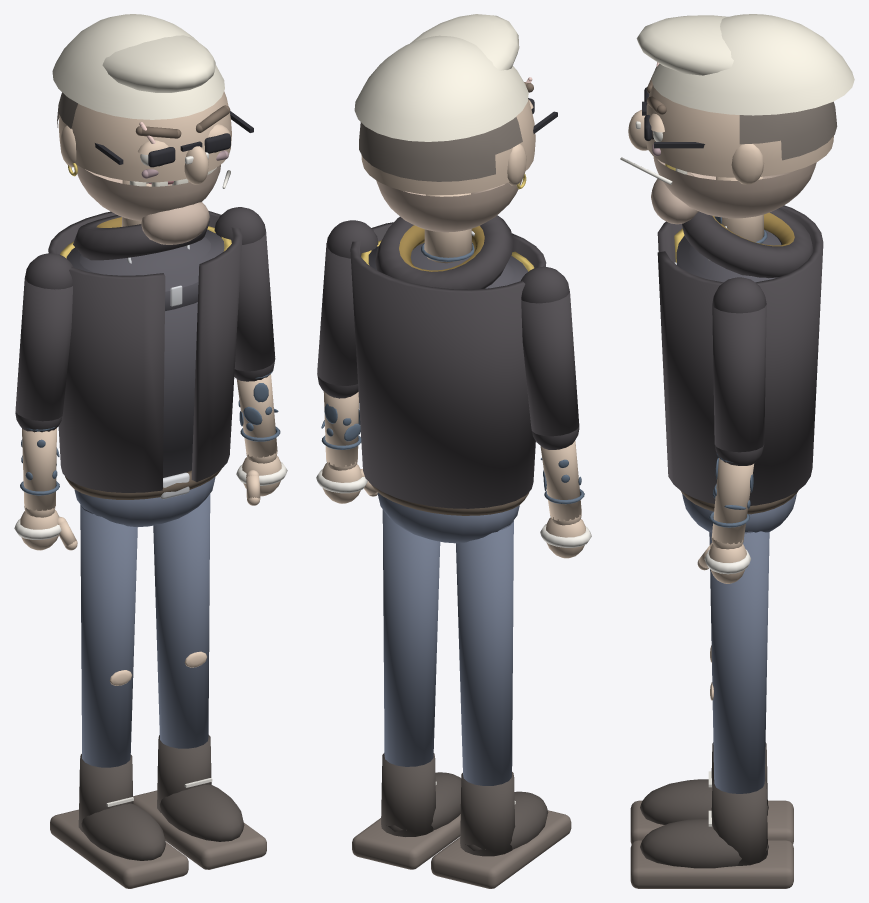
Rendered from pac.glb.
The picture shows the model from 3 angles, left to right: view 1: azimuth 30°, elevation 25°; view 2: azimuth 150°, elevation 25°; view 3: azimuth 270°, elevation 25°; orthographic projection. The views are drawn at different scales.
Visible parts, largest first — view 1: pac.leatherB, pac.jawU, pac.body, pac.legL, pac.legR, pac.footL, pac.footR, pac.leatherL, pac.leatherR, pac.jawL, pac.armL, pac.armR (+3 smaller); view 2: pac.leatherB, pac.jawU, pac.legL, pac.legR, pac.footL, pac.leatherL, pac.body, pac.footR, pac.leatherR, pac.jawL, pac.armL, pac.armR (+2 smaller); view 3: pac.leatherB, pac.jawU, pac.legR, pac.footR, pac.leatherR, pac.jawL, pac.body, pac.footL, pac.armR, pac.handR, pac.shades.
Part boxes in pixels (x1,y1,x2,y2): pac.leatherB: [48, 211, 242, 492]; pac.jawU: [52, 14, 231, 186]; pac.body: [60, 180, 231, 527]; pac.legL: [80, 504, 137, 767]; pac.legR: [153, 494, 210, 748]; pac.footL: [50, 754, 188, 888]; pac.footR: [133, 735, 266, 869]; pac.leatherL: [15, 253, 73, 432]; pac.leatherR: [214, 207, 275, 381]; pac.jawL: [77, 164, 230, 244]; pac.armL: [20, 427, 59, 517]; pac.armR: [236, 370, 280, 463]; pac.leatherB: [350, 215, 546, 508]; pac.jawU: [354, 14, 535, 194]; pac.legL: [456, 520, 513, 785]; pac.legR: [382, 509, 440, 766]; pac.footL: [431, 772, 571, 888]; pac.leatherL: [521, 266, 579, 449]; pac.body: [361, 193, 534, 543]; pac.footR: [352, 753, 461, 869]; pac.leatherR: [317, 220, 378, 398]; pac.jawL: [376, 179, 522, 232]; pac.armL: [540, 440, 584, 525]; pac.armR: [321, 391, 361, 470]; pac.leatherB: [657, 205, 823, 505]; pac.jawU: [628, 14, 854, 184]; pac.legR: [709, 531, 769, 793]; pac.footR: [630, 780, 793, 888]; pac.leatherR: [712, 277, 766, 465]; pac.jawL: [620, 156, 816, 224]; pac.body: [674, 176, 797, 532]; pac.footL: [630, 742, 793, 844]; pac.armR: [708, 453, 753, 549]; pac.handR: [697, 543, 750, 583]; pac.shades: [642, 87, 704, 148].
Bounding box in the file's own units: 0.822 × 2.37 × 0.6032.
